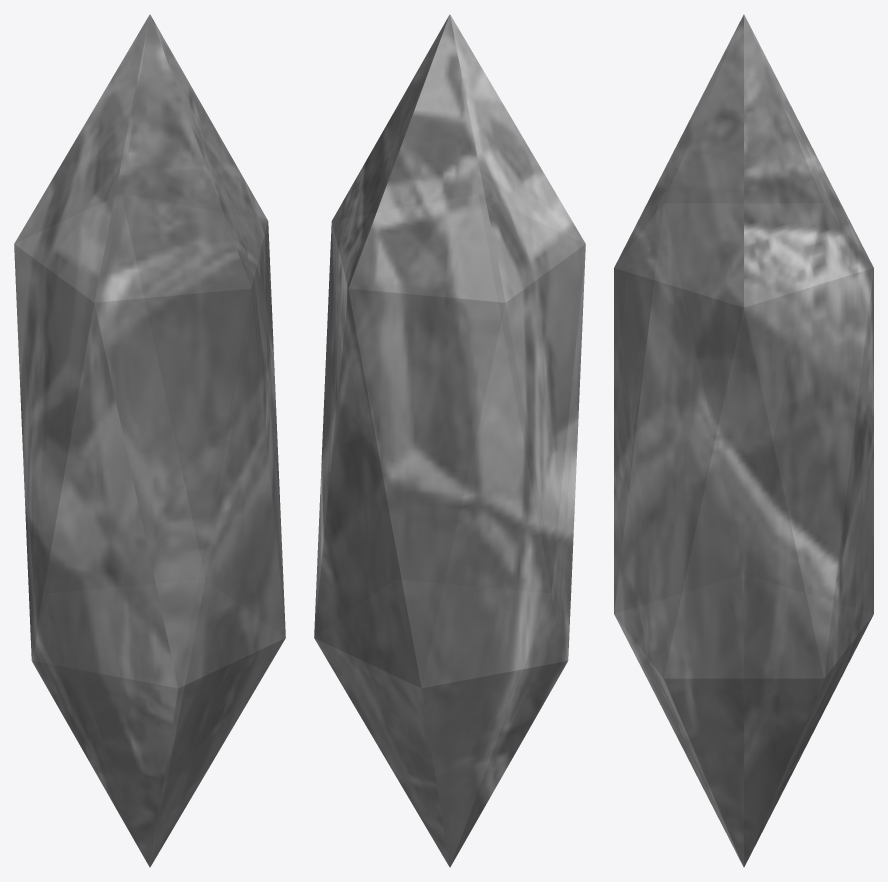
Rendered from secureZoneDisabled.obj.
3 renders of one model, left to right at view 1: azimuth 30°, elevation 25°; view 2: azimuth 150°, elevation 25°; view 3: azimuth 270°, elevation 25°, orthographic.
Visible parts, largest first — view 1: Crystal_Disabled_Crystal_Rune_Cube.001; view 2: Crystal_Disabled_Crystal_Rune_Cube.001; view 3: Crystal_Disabled_Crystal_Rune_Cube.001.
Part boxes in pixels (x1,y1,x2,y2): Crystal_Disabled_Crystal_Rune_Cube.001: [14, 14, 285, 867]; Crystal_Disabled_Crystal_Rune_Cube.001: [314, 14, 585, 867]; Crystal_Disabled_Crystal_Rune_Cube.001: [614, 14, 873, 867].
Size of what is drawn, in the model's own units: 0.0616 by 0.2124 by 0.0586.
1 material, 1 textured.
